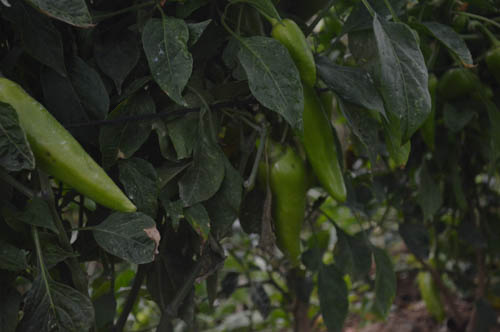ChiliPepper: (1, 78, 139, 217), (285, 82, 348, 205), (257, 144, 304, 266), (270, 20, 321, 90), (413, 72, 437, 151)
